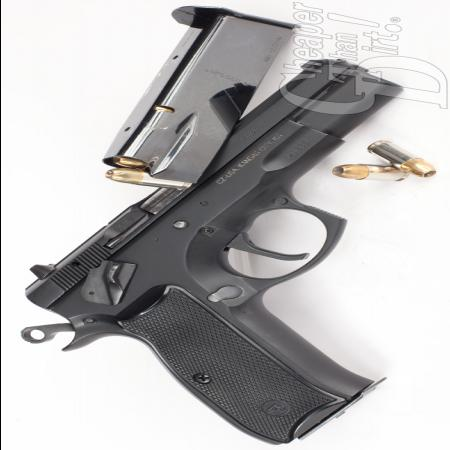Pistol: (10, 51, 408, 441)
